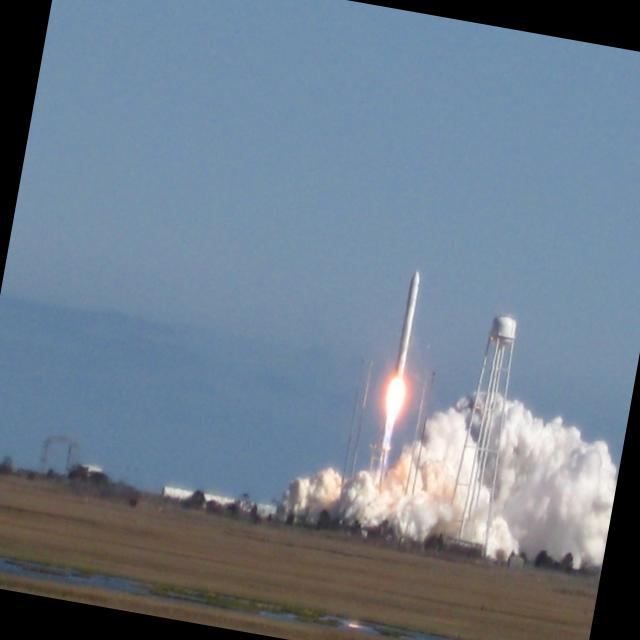rocket: (373, 265, 429, 479)
